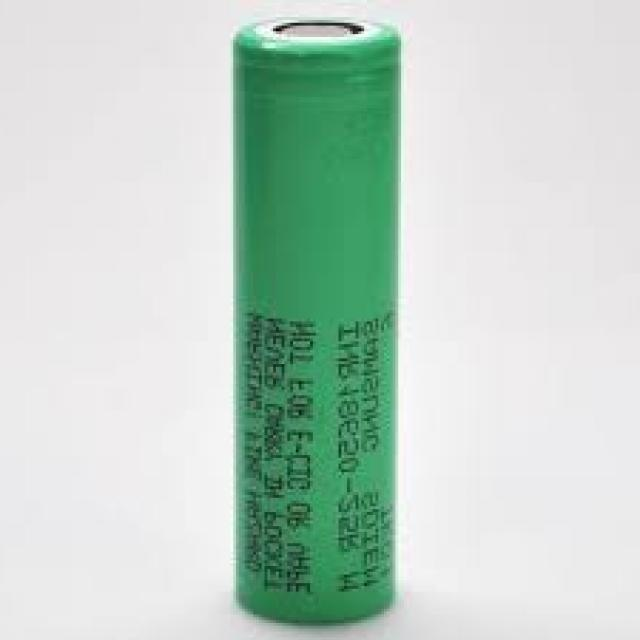battery: (233, 13, 409, 629)
